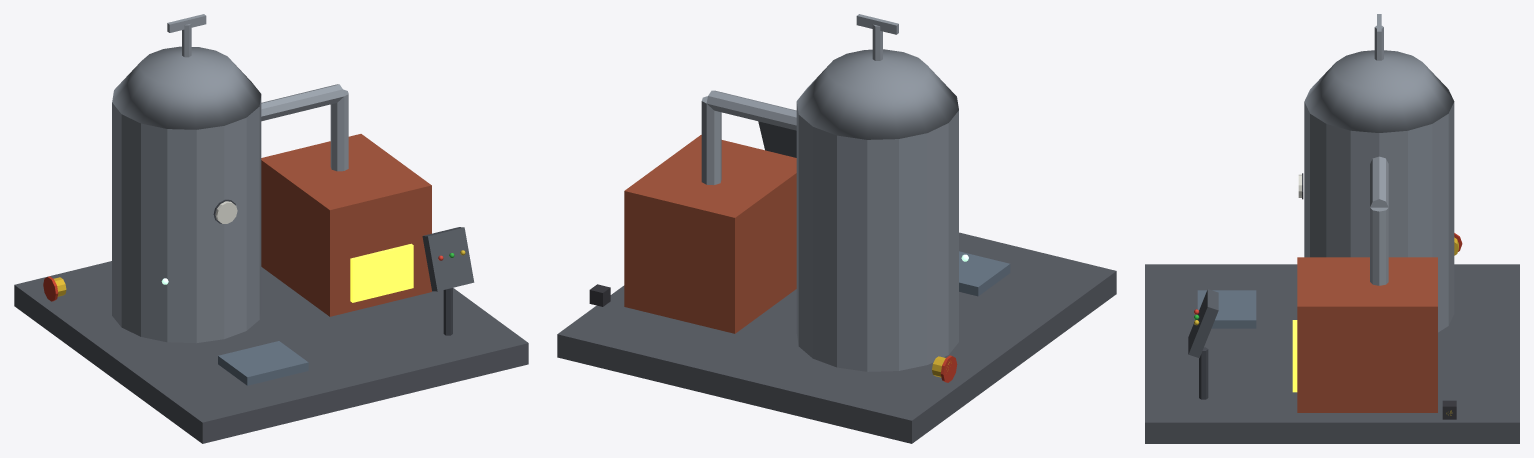
The model's file is TitaniumRefinery@Run.fbx.
3 views of the same model, side by side, from view 1: azimuth 30°, elevation 25°; view 2: azimuth 150°, elevation 25°; view 3: azimuth 270°, elevation 25° (orthographic). The views are drawn at different scales.
Parts seen in each view (by area): view 1: TitaniumRefinery_Body, TitaniumRefinery_Stirrer; view 2: TitaniumRefinery_Body, TitaniumRefinery_Stirrer; view 3: TitaniumRefinery_Body, TitaniumRefinery_Stirrer.
Boxes of the visible parts, x1,y1,x2,y2 form: TitaniumRefinery_Body: (14, 46, 528, 443); TitaniumRefinery_Stirrer: (167, 14, 206, 57); TitaniumRefinery_Body: (557, 49, 1116, 443); TitaniumRefinery_Stirrer: (856, 14, 898, 60); TitaniumRefinery_Body: (1145, 50, 1519, 443); TitaniumRefinery_Stirrer: (1374, 14, 1383, 60).
Size of the model in its own units: 1.61 by 1.47 by 1.6.
